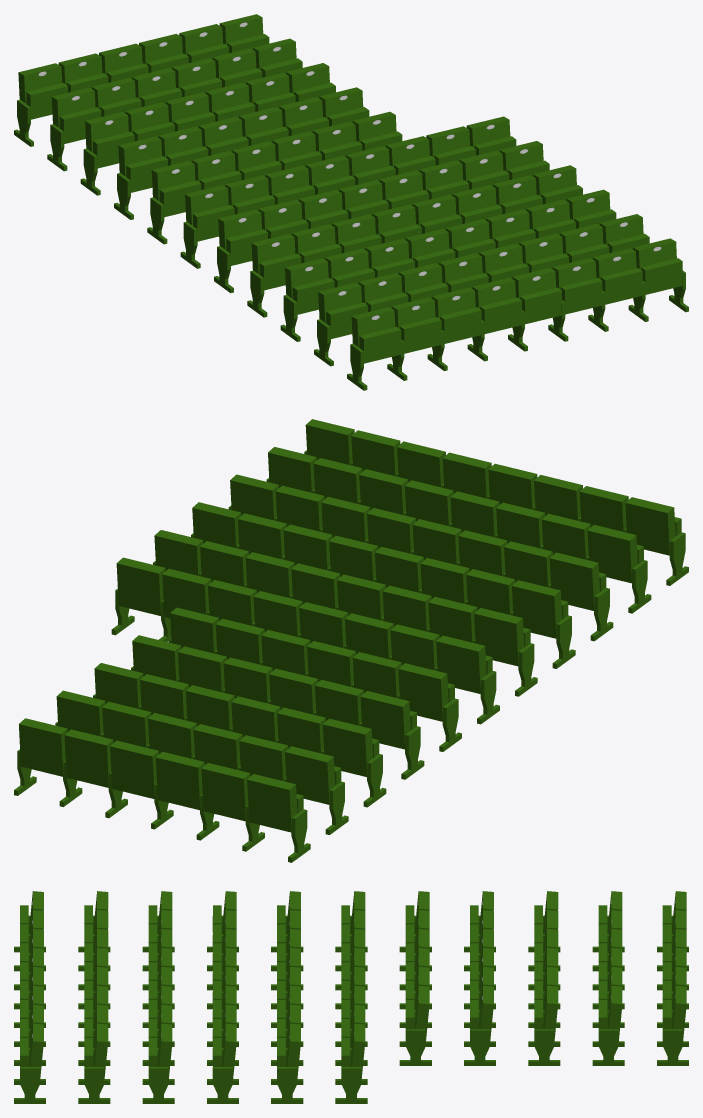
File: Seats_Section3A.FBX
The picture shows the model from 3 angles, top to bottom: view 1: azimuth 30°, elevation 25°; view 2: azimuth 150°, elevation 25°; view 3: azimuth 270°, elevation 25°; orthographic projection. The views are drawn at different scales.
Parts seen in each view (by area): view 1: Box011; view 2: Box011; view 3: Box011.
Part boxes in pixels (x1,y1,x2,y2): Box011: (14,14,688,390); Box011: (14,419,688,862); Box011: (14,891,688,1103).
Bounding box in the file's own units: 3.32 × 0.6188 × 6.18.
